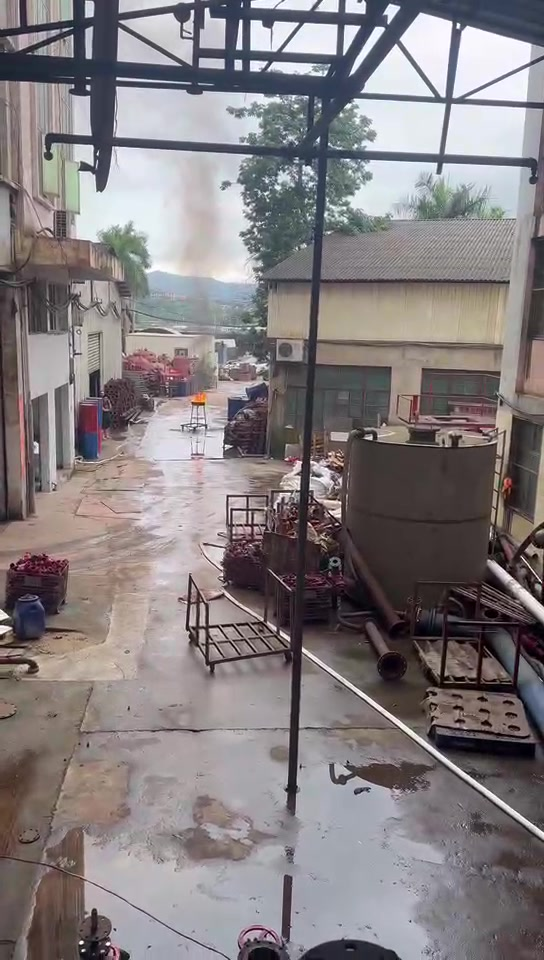fire: (190, 391, 206, 403)
